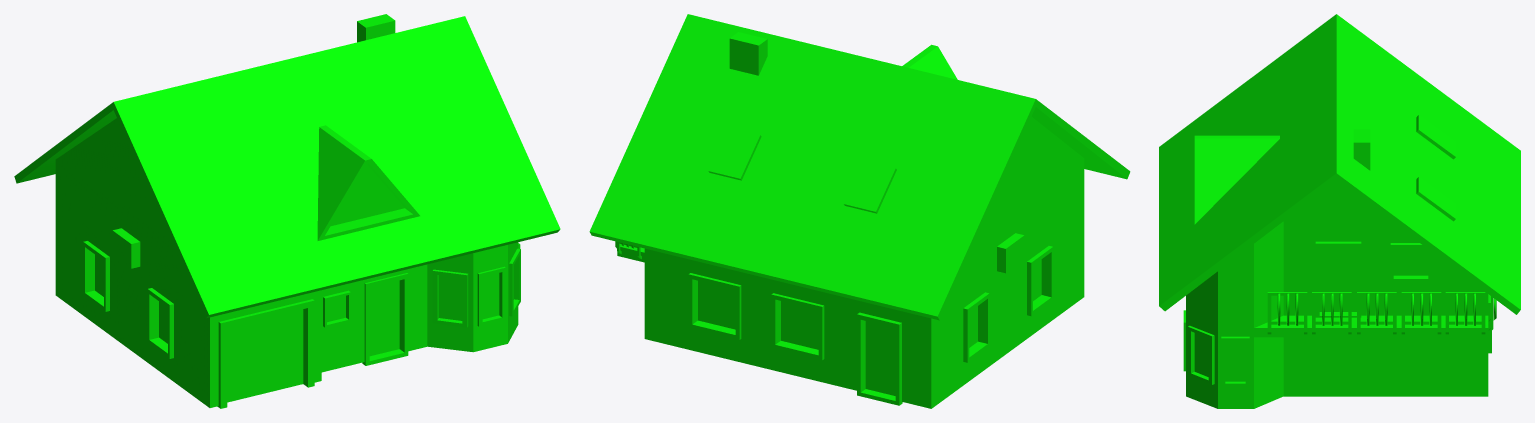
The model's file is building-house.obj.
The picture shows the model from 3 angles, left to right: view 1: azimuth 30°, elevation 25°; view 2: azimuth 150°, elevation 25°; view 3: azimuth 270°, elevation 25°; orthographic projection. The views are drawn at different scales.
Visible parts, largest first — view 1: house2_baked_Cube.038; view 2: house2_baked_Cube.038; view 3: house2_baked_Cube.038.
Part boxes in pixels (left/top/right/bottom): house2_baked_Cube.038: left=14, top=14, right=560, bottom=408; house2_baked_Cube.038: left=589, top=14, right=1130, bottom=408; house2_baked_Cube.038: left=1159, top=14, right=1520, bottom=408.
Bounding box in the file's own units: 2.95 × 2.13 × 2.83.
